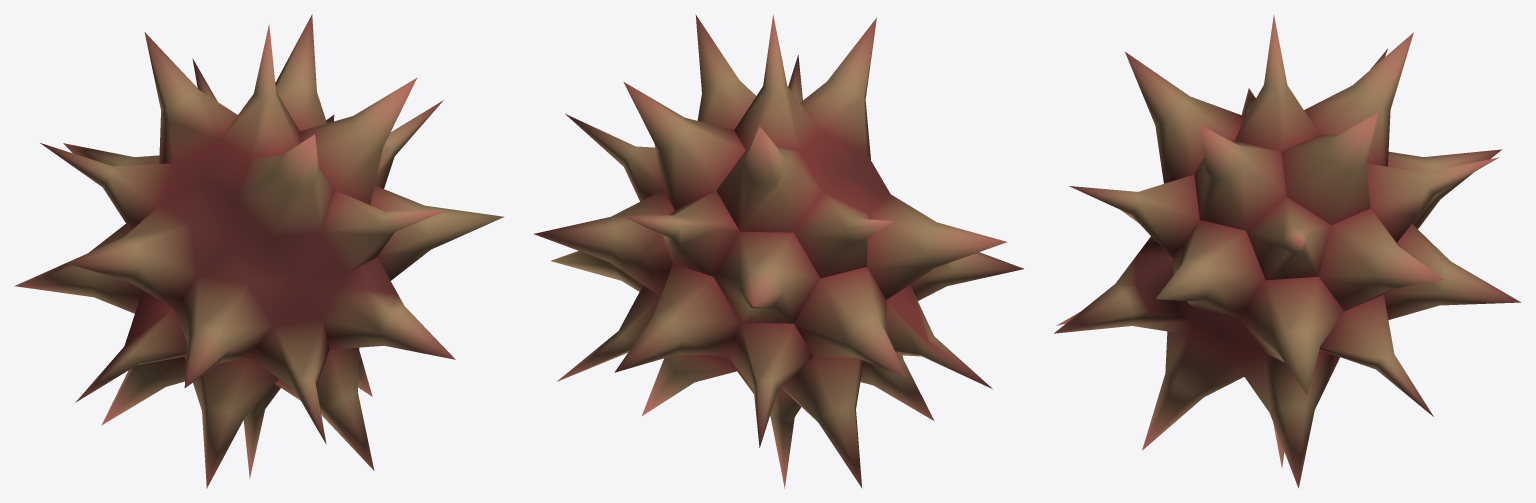
The model's file is microscopic-pollen-spores-sunflower-pollen_v3.fbx.
3 renders of one model, left to right at view 1: azimuth 30°, elevation 25°; view 2: azimuth 150°, elevation 25°; view 3: azimuth 270°, elevation 25°, orthographic. The views are drawn at different scales.
Parts seen in each view (by area): view 1: Sunflower Pollen_v3; view 2: Sunflower Pollen_v3; view 3: Sunflower Pollen_v3.
Part boxes in pixels (x1=…): Sunflower Pollen_v3: x1=14, y1=14, x2=504, y2=488; Sunflower Pollen_v3: x1=534, y1=14, x2=1023, y2=488; Sunflower Pollen_v3: x1=1054, y1=14, x2=1520, y2=488.
Bounding box in the file's own units: 0.2872 × 0.3 × 0.2751.
